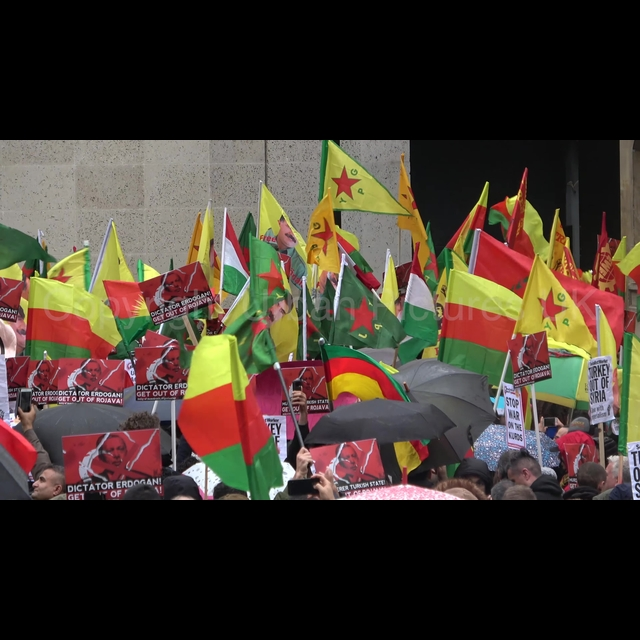YPG: (324, 160, 373, 207)
YPJ: (337, 293, 389, 344)
